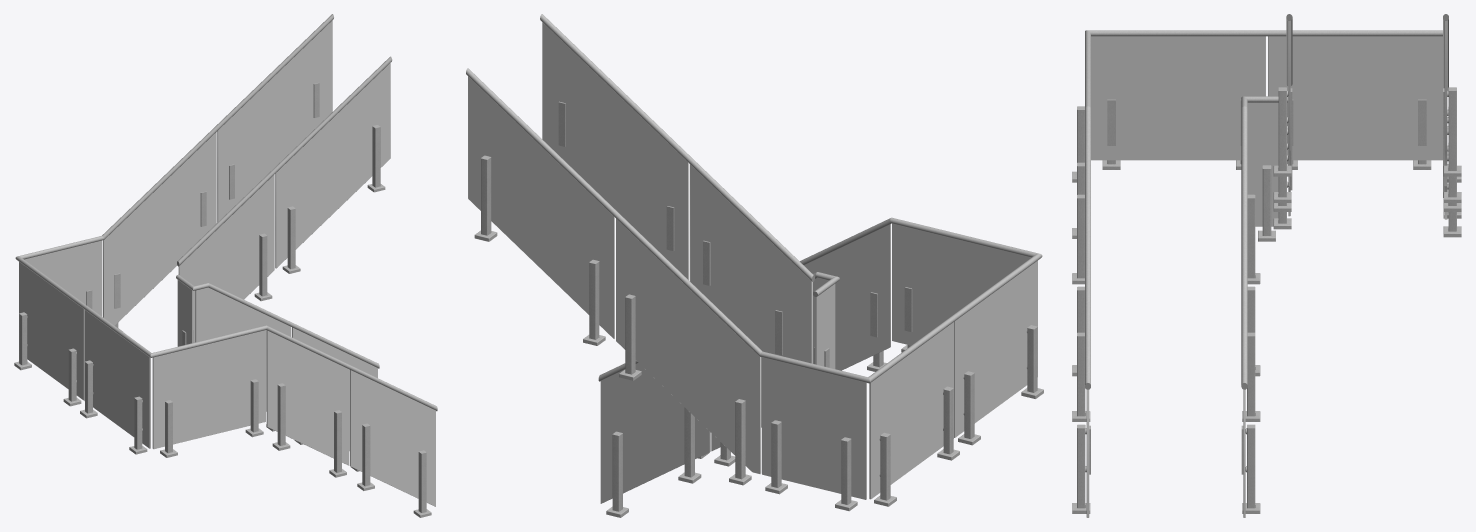
File: Switchback_Railing_Lo-Post_Square.gltf
3 views of the same model, side by side, from view 1: azimuth 30°, elevation 25°; view 2: azimuth 150°, elevation 25°; view 3: azimuth 270°, elevation 25° (orthographic). The views are drawn at different scales.
Parts seen in each view (by area): view 1: Infill_Glass_Raked & Horizontal Generic [8200579], Casework 1 Casework 1 [8738332], Infill_Glass_Raked & Horizontal Generic [8736296], Infill_Glass_Raked & Horizontal Generic [8739156], Infill_Glass_Raked & Horizontal Generic [8735940], Infill_Glass_Raked & Horizontal Generic [8739593], Infill_Glass_Raked & Horizontal Generic [8199751], Infill_Glass_Raked & Horizontal Generic [8739062], Infill_Glass_Raked & Horizontal Generic [8738822], Generic Models 10 Generic Models 1 [8735975], LS208 & LS209 - Circum Square Post Material LS Material [922 (×6), Infill_Glass_Raked & Horizontal Generic [8737682] (+5 smaller); view 2: Infill_Glass_Raked & Horizontal Generic [8736296], Casework 1 Casework 1 [8738332], Infill_Glass_Raked & Horizontal Generic [8200579], Infill_Glass_Raked & Horizontal Generic [8199751], Infill_Glass_Raked & Horizontal Generic [8737682], Infill_Glass_Raked & Horizontal Generic [8739156], LS208 & LS209 - Circum Square Post Material LS Material [922 (×12), Infill_Glass_Raked & Horizontal Generic [8738822], Infill_Glass_Raked & Horizontal Generic [8739062], Infill_Glass_Raked & Horizontal Generic [8202939], Infill_Glass_Raked & Horizontal Generic [8739593], Generic Models 10 Generic Models 1 [8735975] (+2 smaller); view 3: Infill_Glass_Raked & Horizontal Generic [8739062], Infill_Glass_Raked & Horizontal Generic [8738822], LS208 & LS209 - Circum Square Post Material LS Material [922 (×9), Generic Models 10 Generic Models 1 [8735975], Infill_Glass_Raked & Horizontal Generic [8201308], Generic Models 1 Generic Models 1 [8568048], Infill_Glass_Raked & Horizontal Generic [8736296], Infill_Glass_Raked & Horizontal Generic [8735940], Infill_Glass_Raked & Horizontal Generic [8200579].
Boxes of the visible parts, x1,y1,x2,y2 form: Infill_Glass_Raked & Horizontal Generic [8200579]: (275, 63, 390, 268); Casework 1 Casework 1 [8738332]: (103, 132, 216, 325); Infill_Glass_Raked & Horizontal Generic [8736296]: (217, 20, 332, 222); Infill_Glass_Raked & Horizontal Generic [8739156]: (152, 330, 265, 449); Infill_Glass_Raked & Horizontal Generic [8735940]: (350, 370, 435, 506); Infill_Glass_Raked & Horizontal Generic [8739593]: (266, 330, 349, 465); Infill_Glass_Raked & Horizontal Generic [8199751]: (178, 174, 274, 342); Infill_Glass_Raked & Horizontal Generic [8739062]: (84, 310, 150, 448); Infill_Glass_Raked & Horizontal Generic [8738822]: (19, 262, 84, 400); Generic Models 10 Generic Models 1 [8735975]: (15, 14, 437, 411); LS208 & LS209 - Circum Square Post Material LS Material [922 (×6): (259, 127, 426, 512); Infill_Glass_Raked & Horizontal Generic [8737682]: (24, 240, 102, 316); Infill_Glass_Raked & Horizontal Generic [8736296]: (468, 76, 614, 338); Casework 1 Casework 1 [8738332]: (616, 219, 761, 473); Infill_Glass_Raked & Horizontal Generic [8200579]: (542, 22, 689, 280); Infill_Glass_Raked & Horizontal Generic [8199751]: (690, 164, 812, 363); Infill_Glass_Raked & Horizontal Generic [8737682]: (762, 357, 866, 499); Infill_Glass_Raked & Horizontal Generic [8739156]: (892, 223, 1030, 345); LS208 & LS209 - Circum Square Post Material LS Material [922 (×12): (481, 158, 1037, 511); Infill_Glass_Raked & Horizontal Generic [8738822]: (869, 322, 953, 499); Infill_Glass_Raked & Horizontal Generic [8739062]: (954, 260, 1037, 437); Infill_Glass_Raked & Horizontal Generic [8202939]: (600, 363, 710, 503); Infill_Glass_Raked & Horizontal Generic [8739593]: (804, 224, 890, 370); Generic Models 10 Generic Models 1 [8735975]: (466, 68, 1042, 383); Infill_Glass_Raked & Horizontal Generic [8739062]: (1091, 36, 1265, 160); Infill_Glass_Raked & Horizontal Generic [8738822]: (1268, 36, 1442, 160); LS208 & LS209 - Circum Square Post Material LS Material [922 (×9): (1077, 91, 1456, 508); Generic Models 10 Generic Models 1 [8735975]: (1085, 14, 1448, 389); Infill_Glass_Raked & Horizontal Generic [8201308]: (1247, 102, 1278, 226); Generic Models 1 Generic Models 1 [8568048]: (1241, 96, 1287, 389); Infill_Glass_Raked & Horizontal Generic [8736296]: (1444, 21, 1447, 186); Infill_Glass_Raked & Horizontal Generic [8735940]: (1086, 389, 1089, 517); Infill_Glass_Raked & Horizontal Generic [8200579]: (1288, 21, 1290, 186).
Size of the model in its own units: 3.06 by 3.51 by 2.36.
4 materials, 2 textured.
